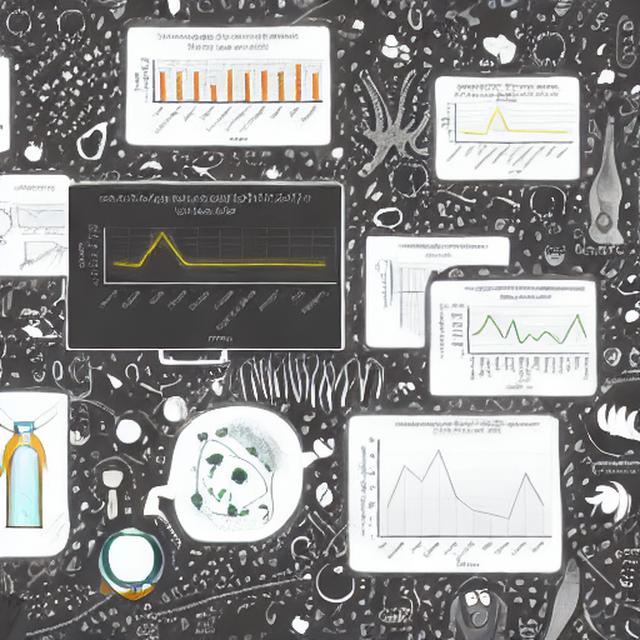Graph: (69, 189, 341, 349), (359, 420, 553, 569), (129, 29, 326, 144), (435, 283, 593, 394), (437, 91, 576, 175), (10, 203, 68, 237)
